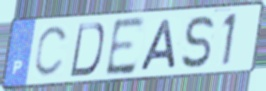1: (220, 11, 240, 69)
A: (137, 17, 178, 72)
C: (32, 24, 71, 80)
D: (67, 22, 106, 79)
E: (103, 15, 147, 79)
S: (179, 14, 217, 71)
